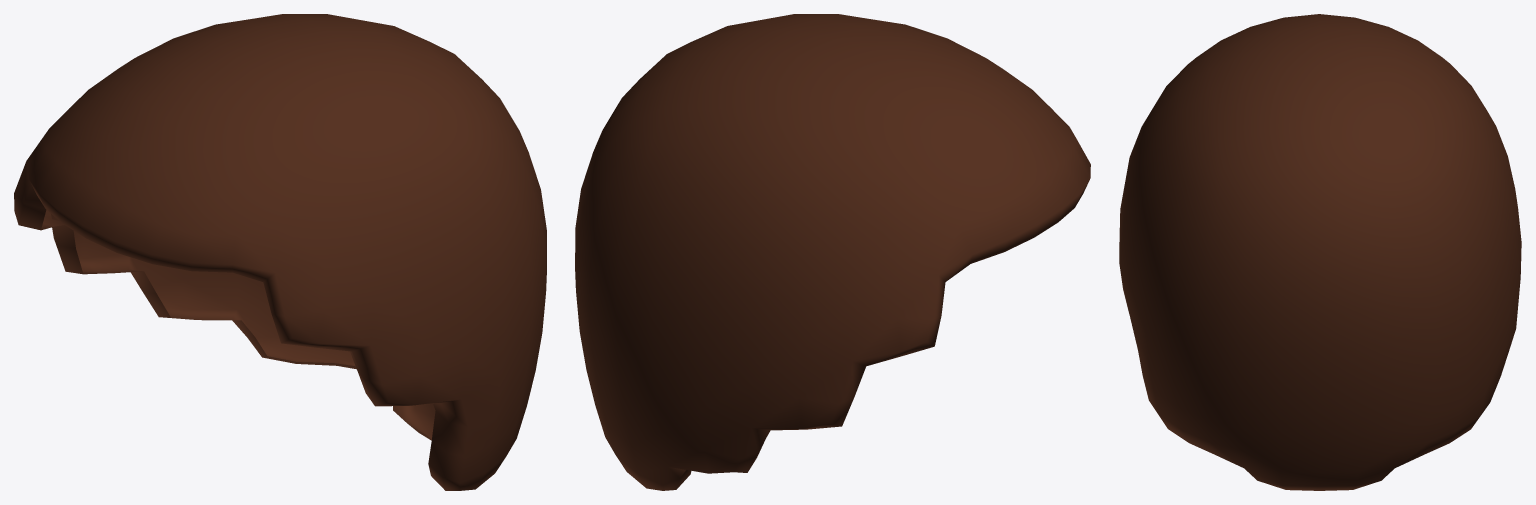
File: Boy_Hair.fbx
The picture shows the model from 3 angles, left to right: view 1: azimuth 30°, elevation 25°; view 2: azimuth 150°, elevation 25°; view 3: azimuth 270°, elevation 25°; orthographic projection. The views are drawn at different scales.
Parts seen in each view (by area): view 1: pCube16; view 2: pCube16; view 3: pCube16.
Part boxes in pixels (x1,y1,x2,y2): pCube16: (14, 14, 546, 490); pCube16: (575, 14, 1090, 490); pCube16: (1119, 14, 1521, 490).
Size of the model in its own units: 30.41 by 28.42 by 27.49.
